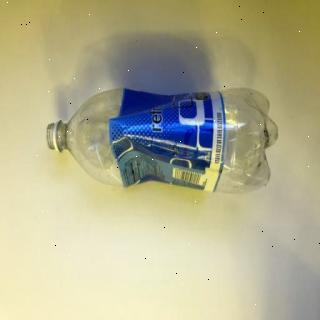Plastic-bottle: (45, 85, 281, 196)
